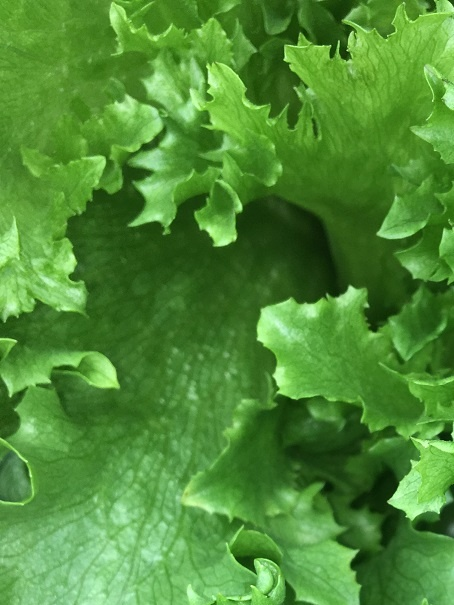tipburn: (178, 488, 194, 509)
